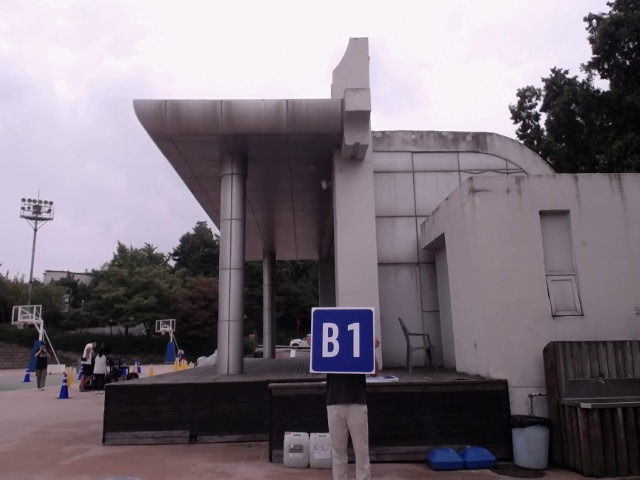delivery_b1: (311, 308, 375, 373)
